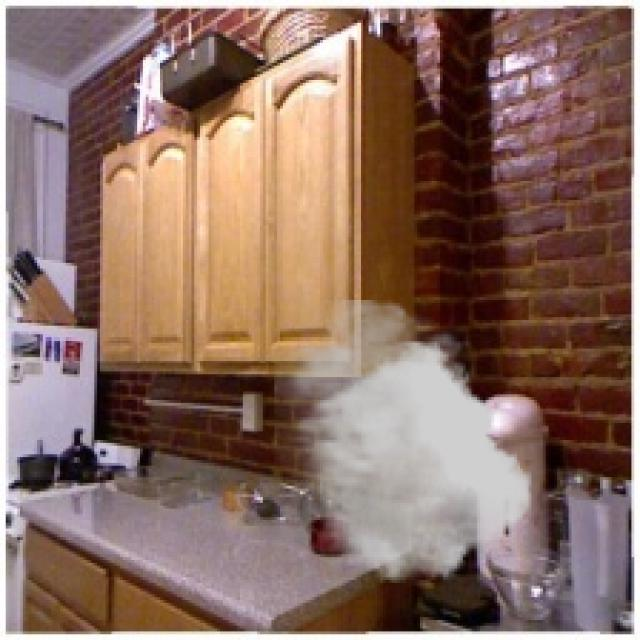smoke: (274, 300, 532, 583)
